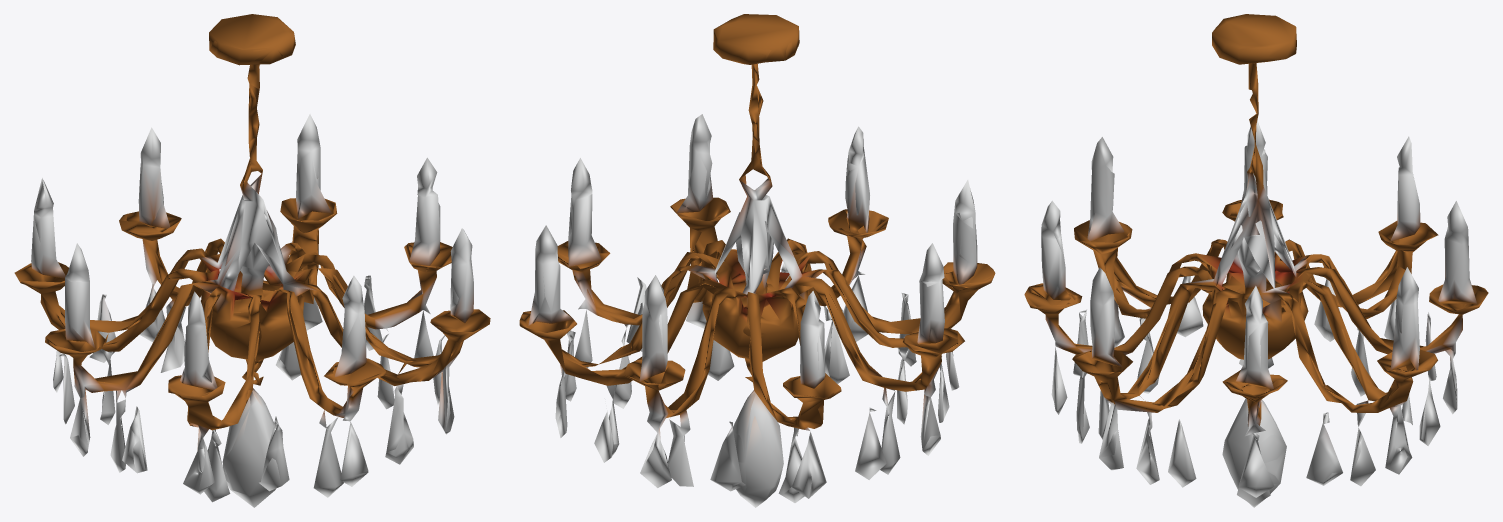
The model's file is gen3d-chandelier-lod0.glb.
The picture shows the model from 3 angles, left to right: view 1: azimuth 30°, elevation 25°; view 2: azimuth 150°, elevation 25°; view 3: azimuth 270°, elevation 25°; orthographic projection.
Parts seen in each view (by area): view 1: part_0; view 2: part_0; view 3: part_0.
Part boxes in pixels (<box>): part_0: <box>14,14,490,507</box>; part_0: <box>519,14,995,507</box>; part_0: <box>1024,14,1488,507</box>.
Bounding box in the file's own units: 0.8887 × 1 × 0.8839.
